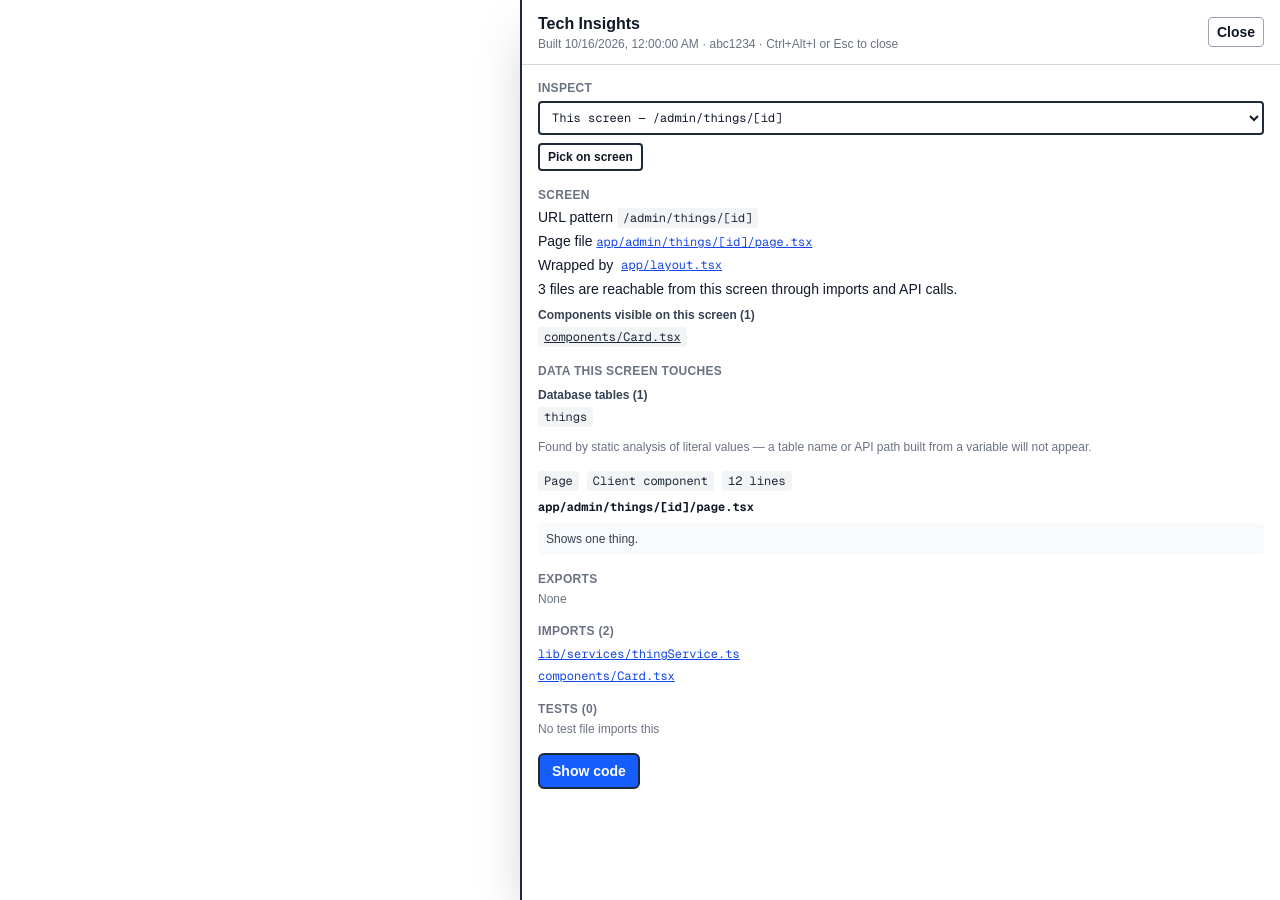
Scenario: TechInsightsPanel — components on screen › outlines a selected visible component and shows where it sits in the screen
This screenshot has width=1280, height=900.
Select "components/Card.tsx ×2" in the dropdown at (901, 118), box [538,101,1264,135]
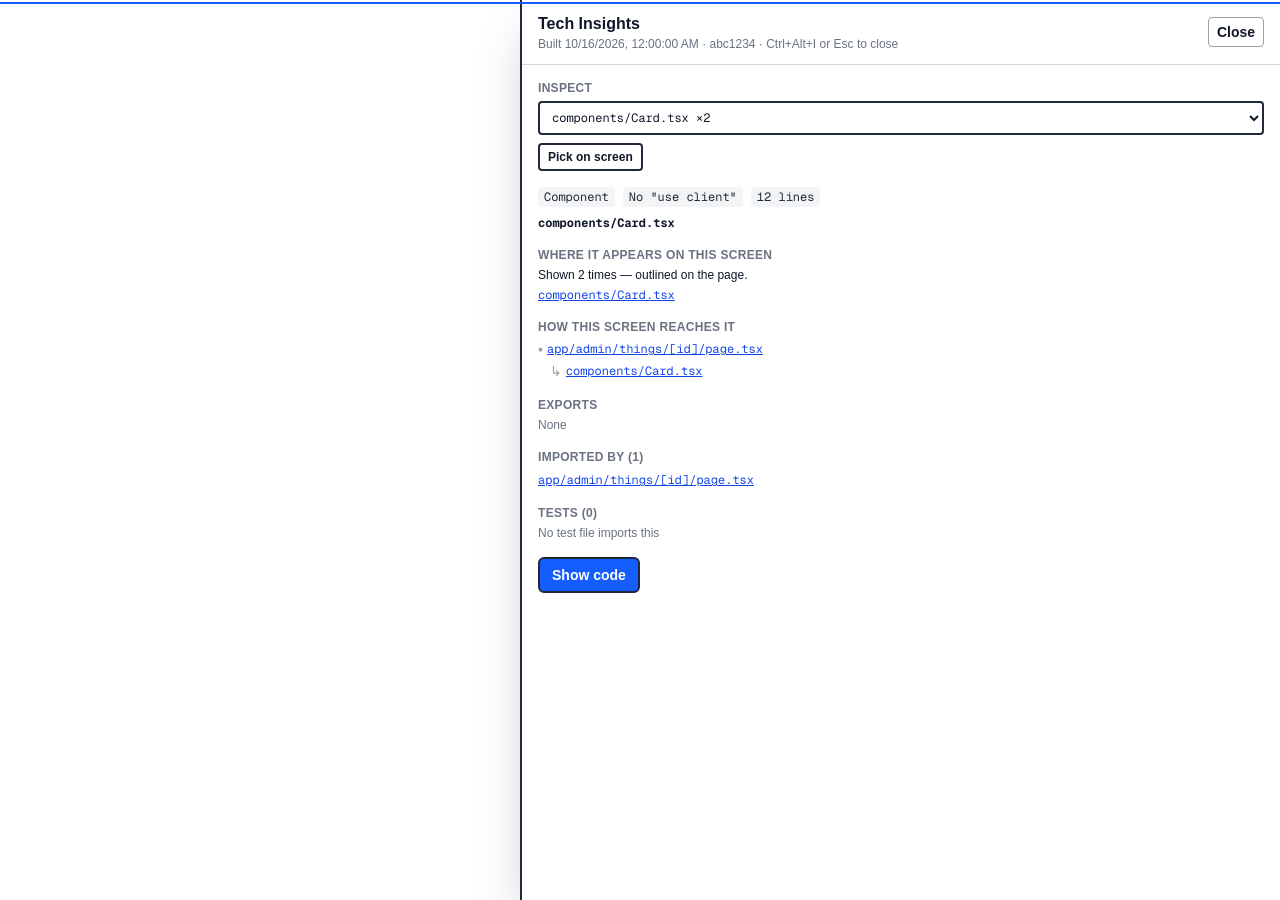
Expected: the text "Where it appears on this screen" is shown, [538,248,772,262]
Expected: the text "Shown 2 times — outlined on the page." is shown, [538,268,748,282]
